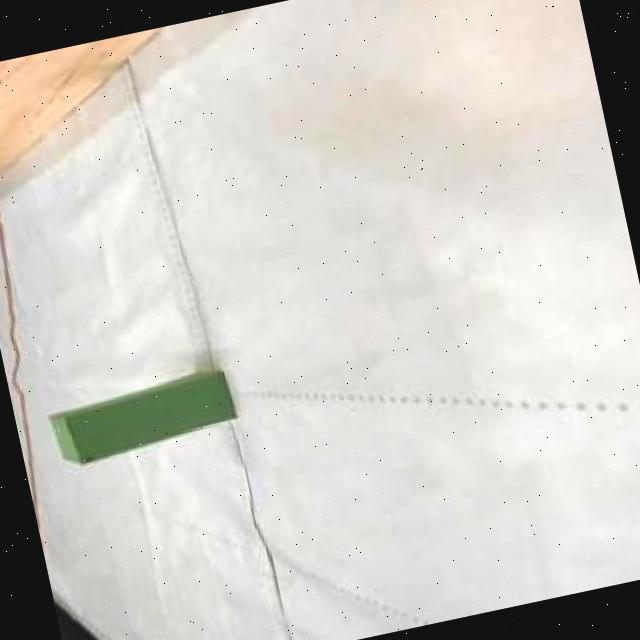greenbox: (49, 368, 238, 466)
